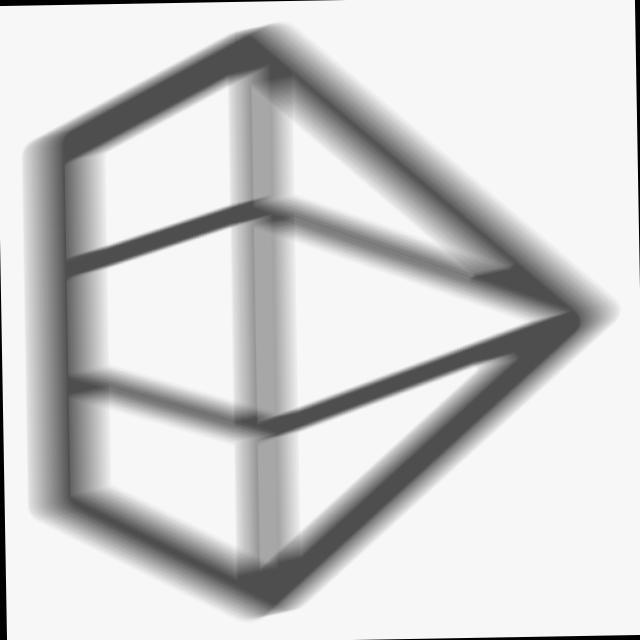diamond: (10, 2, 639, 639)
